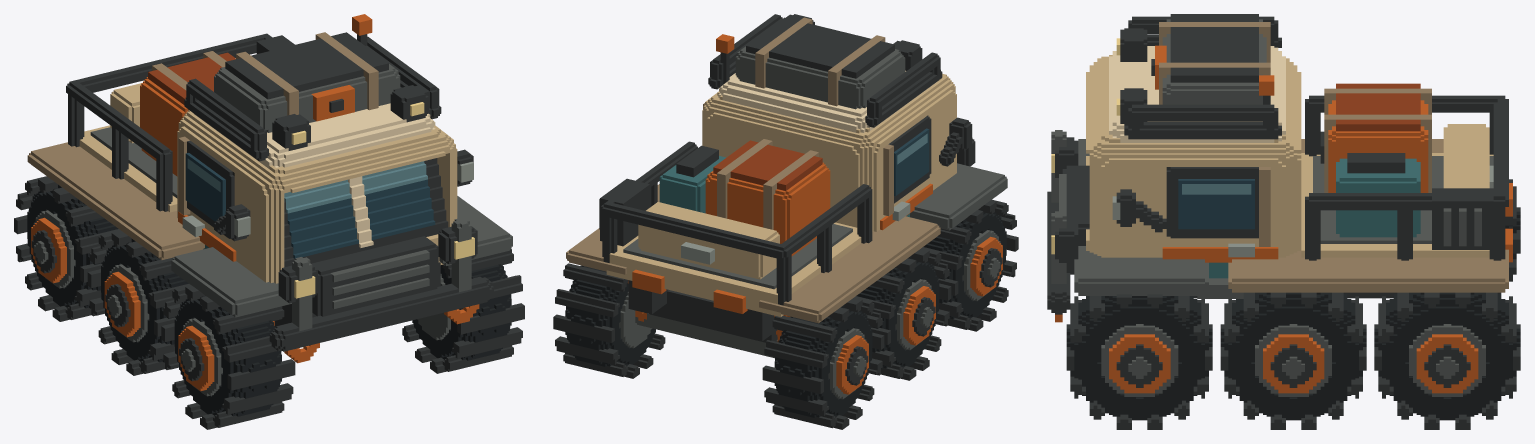
File: exploration_rover.glb
The picture shows the model from 3 angles, left to right: view 1: azimuth 30°, elevation 25°; view 2: azimuth 150°, elevation 25°; view 3: azimuth 270°, elevation 25°; orthographic projection. The views are drawn at different scales.
Visible parts, largest first — view 1: exploration_rover; view 2: exploration_rover; view 3: exploration_rover.
Part boxes in pixels (bbox=[...]): exploration_rover: bbox=[14, 14, 524, 429]; exploration_rover: bbox=[553, 14, 1018, 429]; exploration_rover: bbox=[1047, 14, 1520, 429].
Size of the model in its own units: 4.41 by 4.1 by 5.54.
